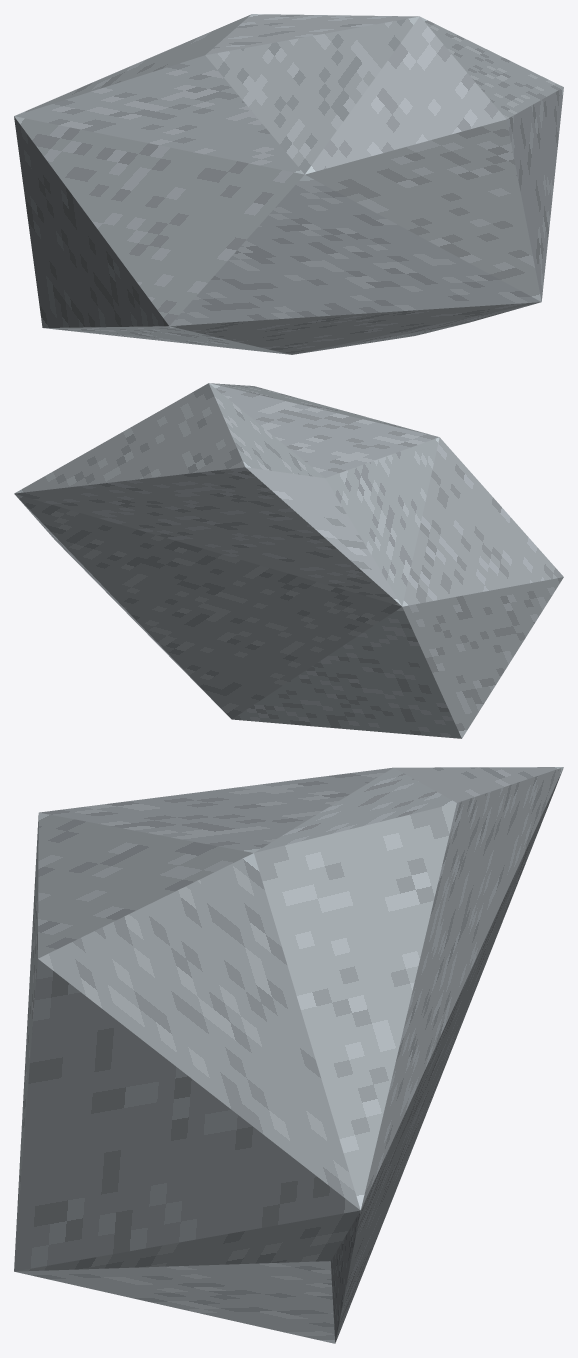
Rendered from qt_steel_chunk.glb.
3 views of the same model, one above another, from view 1: azimuth 30°, elevation 25°; view 2: azimuth 150°, elevation 25°; view 3: azimuth 270°, elevation 25° (orthographic). The views are drawn at different scales.
Parts seen in each view (by area): view 1: block_irregular metal; view 2: block_irregular metal; view 3: block_irregular metal.
Part boxes in pixels (x1,y1,x2,y2): block_irregular metal: (14, 14, 563, 354); block_irregular metal: (14, 383, 563, 738); block_irregular metal: (14, 767, 563, 1343).
Bounding box in the file's own units: 0.0716 × 0.0454 × 0.0427.
Materials: 1 (1 with a texture image).
